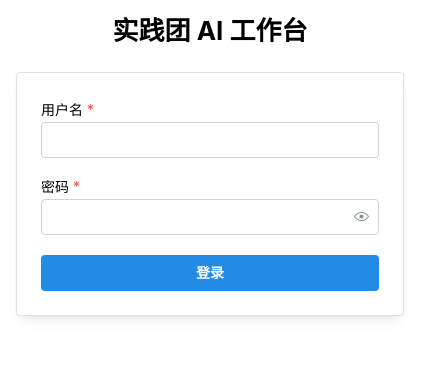
Scenario: LoginPage › shows error on bad credentials
Type "x" into the field labelled "用户名 *" at [210, 140], box [41,122,379,158]
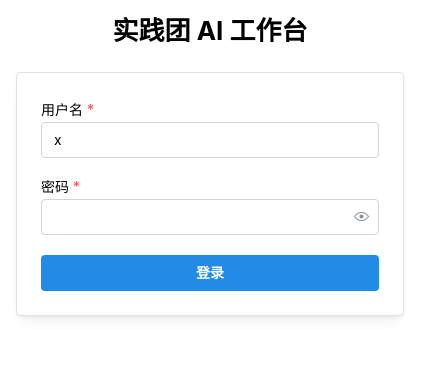
Type "y" into the password field labelled "密码 *" at [210, 217], box [42,200,378,234]
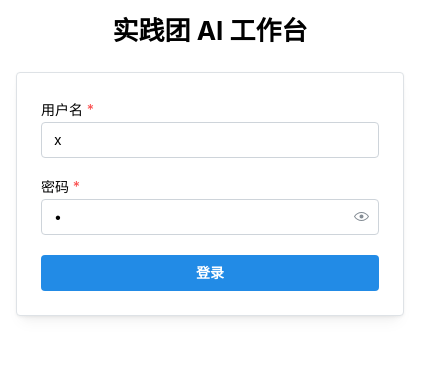
Click the button "登录" at [210, 273], box [41,255,379,291]
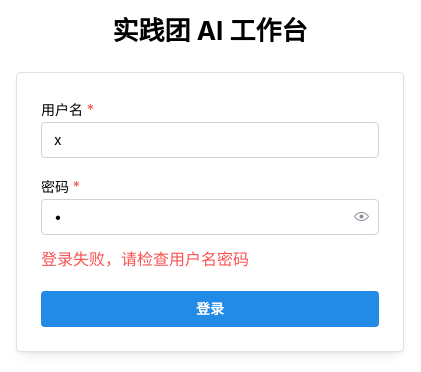
Check: the text "登录失败，请检查用户名密码" is shown, box [41,249,249,269]
